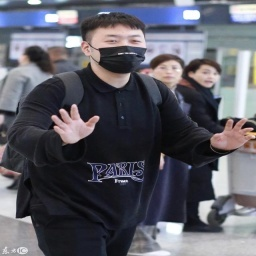correctlyWear: (80, 29, 147, 75)
noWear: (188, 65, 220, 87), (153, 61, 182, 84)
